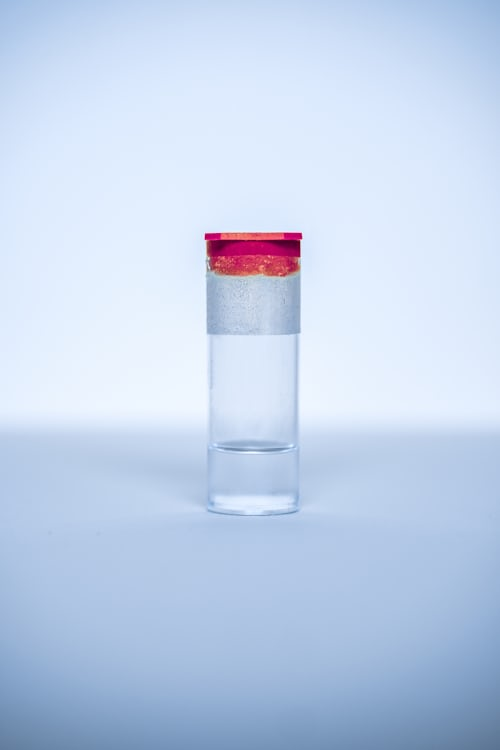Glass: (192, 226, 316, 524)
